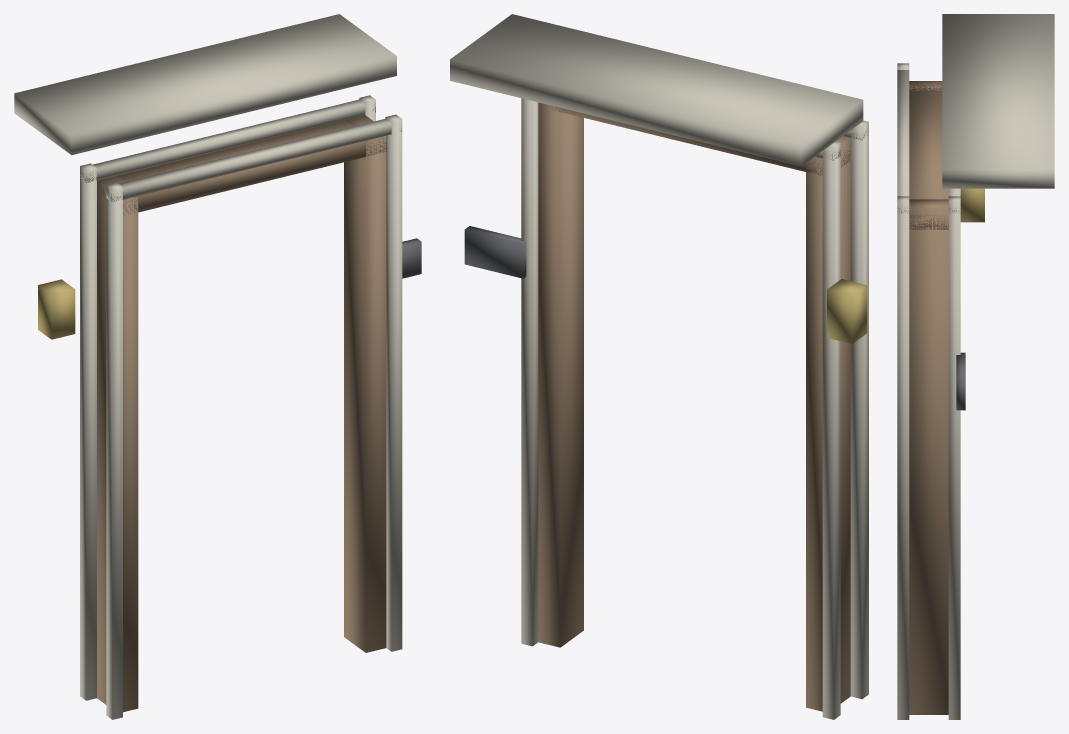
Rendered from doorway_motel_w96_h200_d16.glb.
The picture shows the model from 3 angles, left to right: view 1: azimuth 30°, elevation 25°; view 2: azimuth 150°, elevation 25°; view 3: azimuth 270°, elevation 25°; orthographic projection. The views are drawn at different scales.
Parts seen in each view (by area): view 1: world; view 2: world; view 3: world.
Boxes of the visible parts, x1,y1,x2,y2 form: world: [14, 14, 421, 719]; world: [450, 14, 868, 719]; world: [897, 14, 1054, 719].
Size of the model in its own units: 1.56 by 2.31 by 0.5882.
